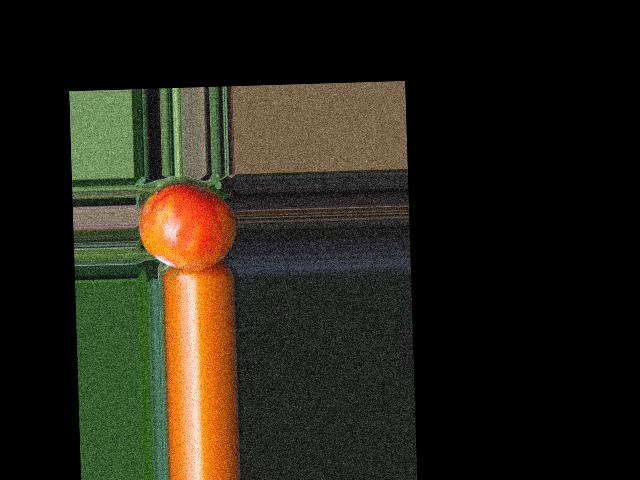tomato: (138, 182, 237, 271)
